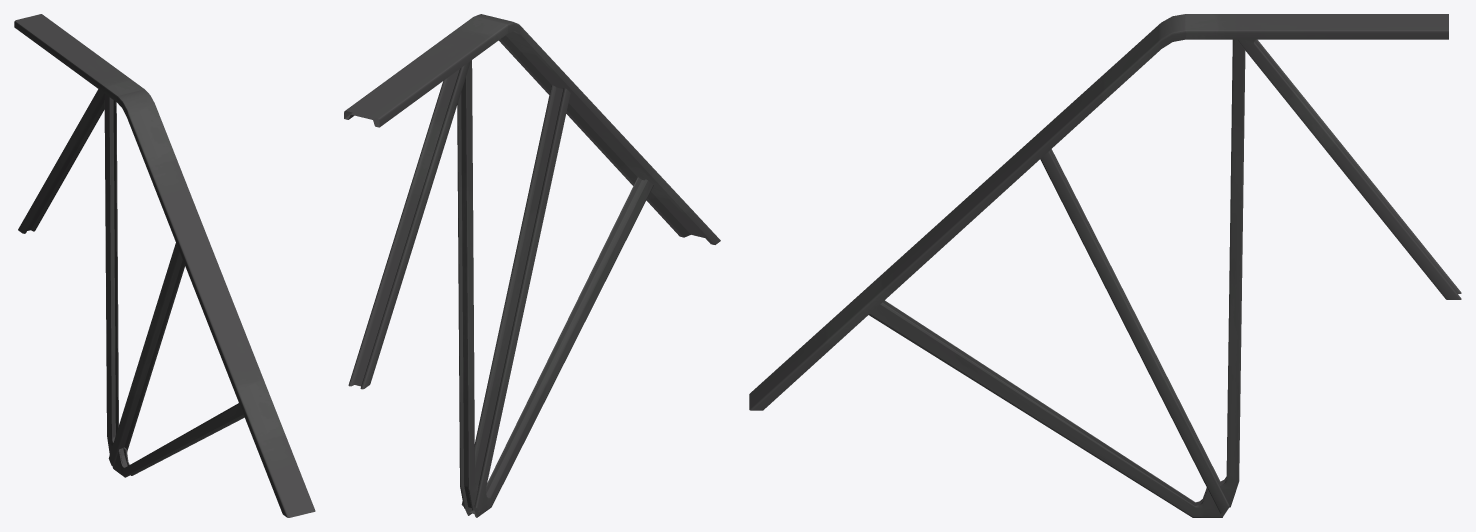
The model's file is EN_W_fence6ConnectTop.fbx.
3 renders of one model, left to right at view 1: azimuth 30°, elevation 25°; view 2: azimuth 150°, elevation 25°; view 3: azimuth 270°, elevation 25°, orthographic. The views are drawn at different scales.
Visible parts, largest first — view 1: EN_W_fence6ConnectTop; view 2: EN_W_fence6ConnectTop; view 3: EN_W_fence6ConnectTop.
Part boxes in pixels (<box>): EN_W_fence6ConnectTop: <box>14,14,315,517</box>; EN_W_fence6ConnectTop: <box>344,14,720,517</box>; EN_W_fence6ConnectTop: <box>749,14,1461,517</box>.
Bounding box in the file's own units: 17.96 × 234 × 306.
